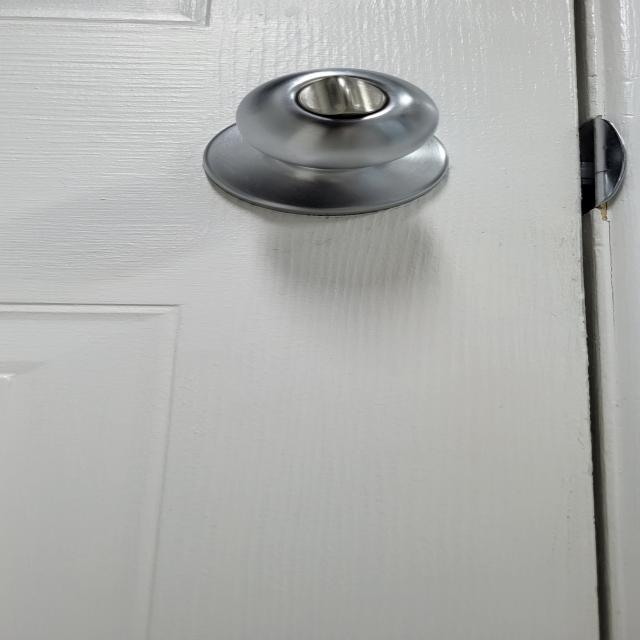door-knob: (203, 69, 446, 215)
